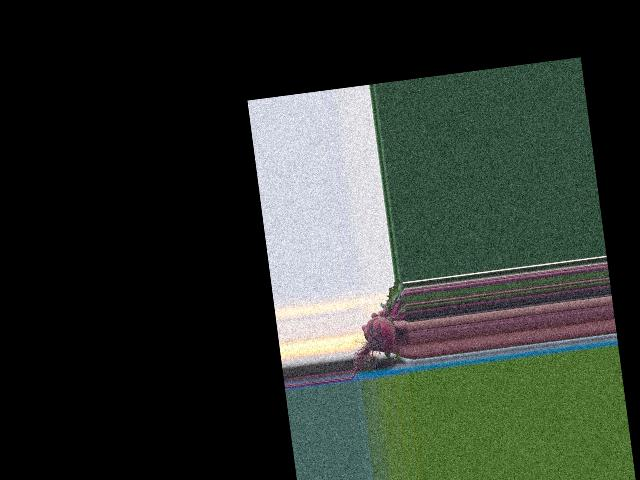beet: (339, 280, 414, 379)
